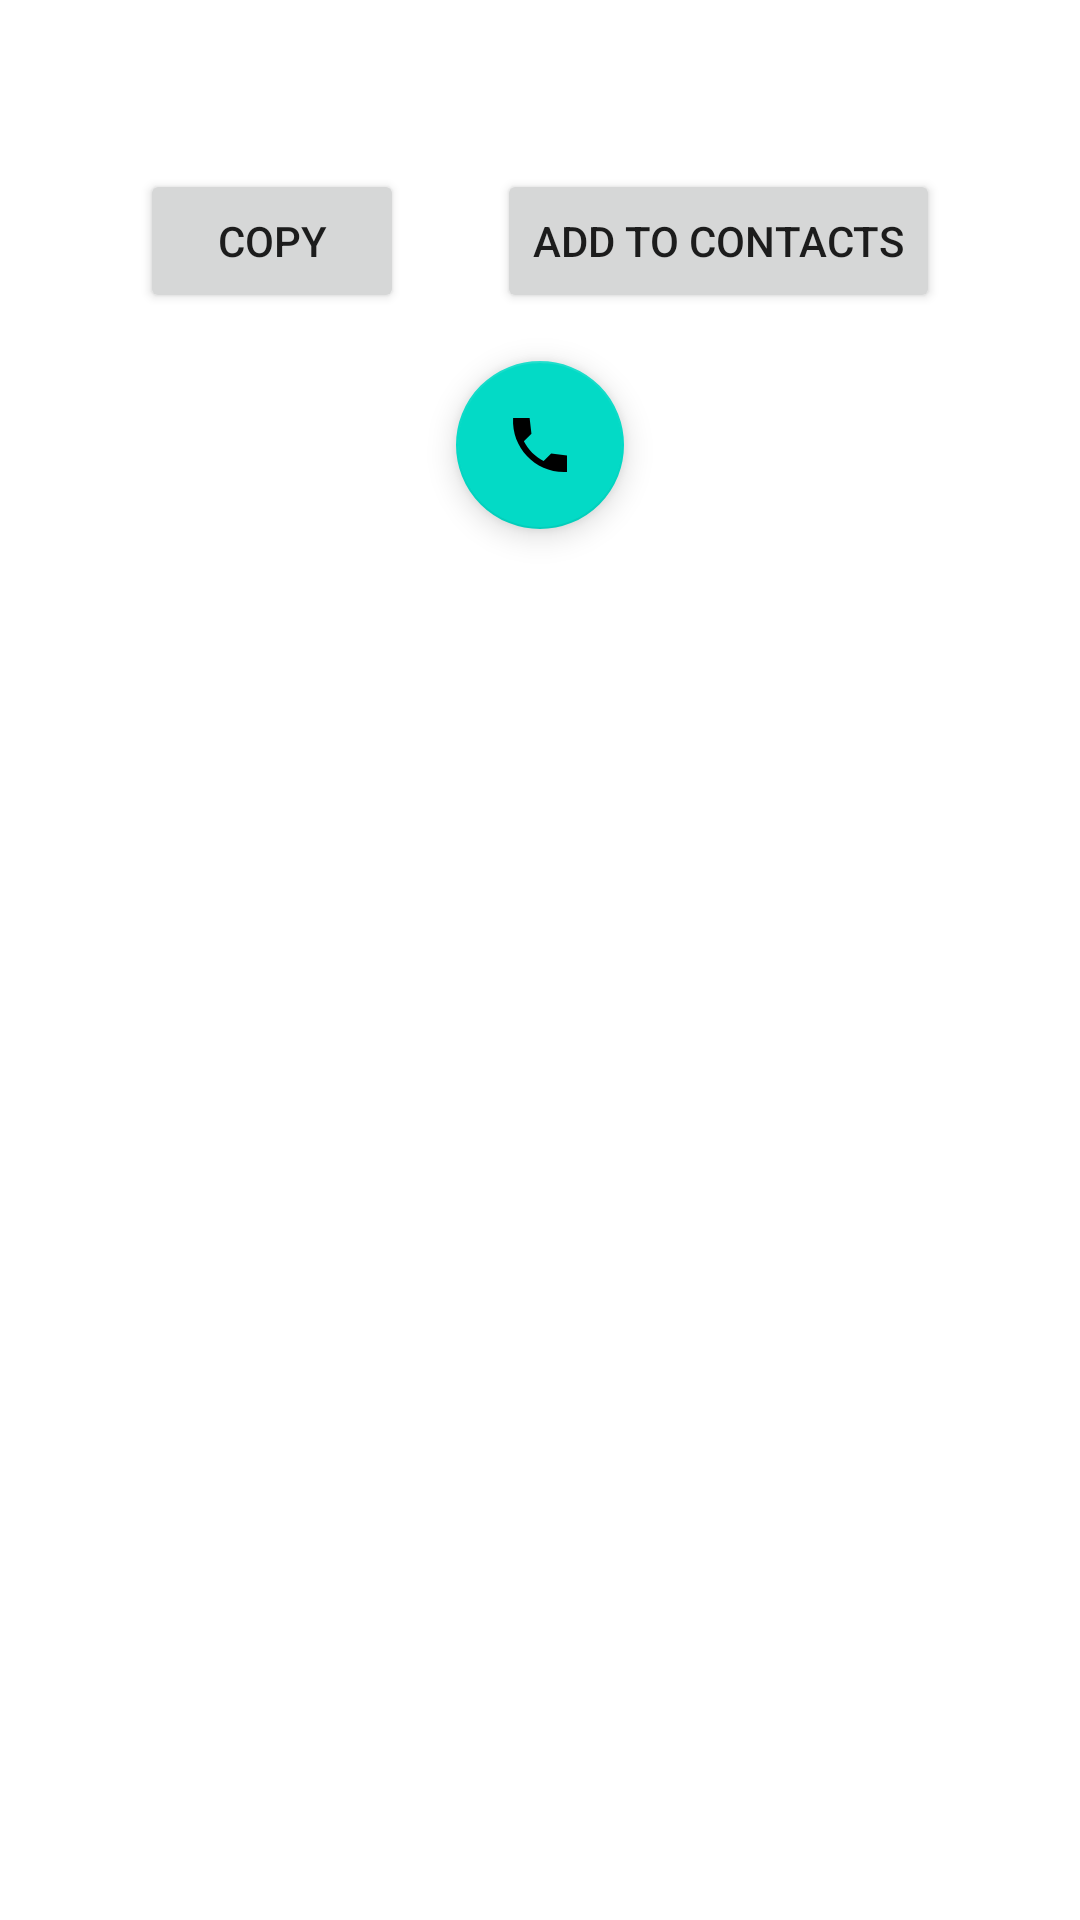

Point at icon controls on the screen. Image size 1080 x 1920, points as [x,y].
call: [540,445]
